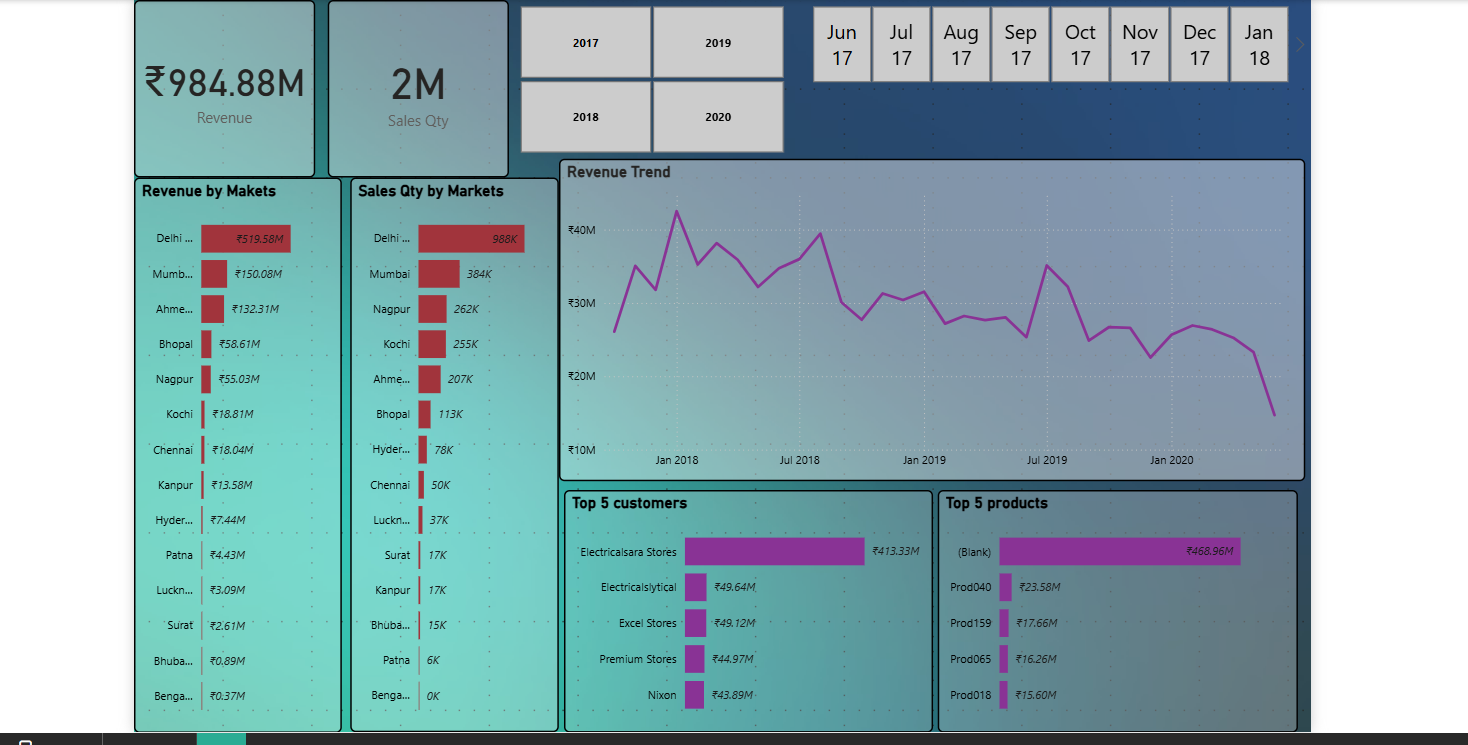

The page's visual inventory and layout, read from the dashboard file:
{"tool":"powerbi","page":{"name":"Page 1","canvas":[1273,792],"ordinal":0},"visuals":[{"type":"card","fields":{"Values":["Basemeasure.Revenue"]},"box":[0,0,196.1,192],"z":0},{"type":"card","fields":{"Values":["Basemeasure.Sales Qty"]},"box":[209.6,0,196.1,192],"z":1000},{"type":"clusteredBarChart","title":"Revenue by Makets","fields":{"Y":["Basemeasure.Revenue"],"Category":["sales markets.markets_name"]},"box":[0,192,224.9,600.7],"z":2000},{"type":"clusteredBarChart","title":"Sales Qty by Markets","fields":{"Y":["Basemeasure.Sales Qty"],"Category":["sales markets.markets_name"]},"box":[233.9,192,225.8,600.3],"z":3000},{"type":"slicer","fields":{"Values":["sales date.year"]},"box":[392.2,0,334.6,171.4],"z":4000},{"type":"slicer","fields":{"Values":["sales date.cy_date"]},"box":[708.5,0,563.8,96],"z":5000},{"type":"clusteredBarChart","title":"Top 5 customers","fields":{"Y":["Basemeasure.Revenue"],"Category":["sales customers.custmer_name"]},"box":[465.1,530,398.9,262.3],"z":6000},{"type":"clusteredBarChart","title":"Top 5 products","fields":{"Y":["Basemeasure.Revenue"],"Category":["sales products.product_code"]},"box":[869.4,530,389.4,262.3],"z":7000},{"type":"lineChart","title":"Revenue Trend","fields":{"Y":["Basemeasure.Revenue"],"Category":["sales date.cy_date"]},"box":[459.7,171.7,807.2,348.8],"z":8000}]}

Visuals, with their boxes in screenshot pixels (x1, y1, x2, y2):
card - Basemeasure.Revenue: rect(130, 0, 312, 174)
card - Basemeasure.Sales Qty: rect(325, 0, 507, 174)
"Revenue by Makets" clusteredBarChart: rect(130, 174, 339, 732)
"Sales Qty by Markets" clusteredBarChart: rect(347, 174, 557, 732)
slicer - sales date.year: rect(494, 0, 805, 155)
slicer - sales date.cy_date: rect(788, 0, 1311, 85)
"Top 5 customers" clusteredBarChart: rect(562, 488, 932, 732)
"Top 5 products" clusteredBarChart: rect(937, 488, 1298, 732)
"Revenue Trend" lineChart: rect(557, 156, 1306, 479)
